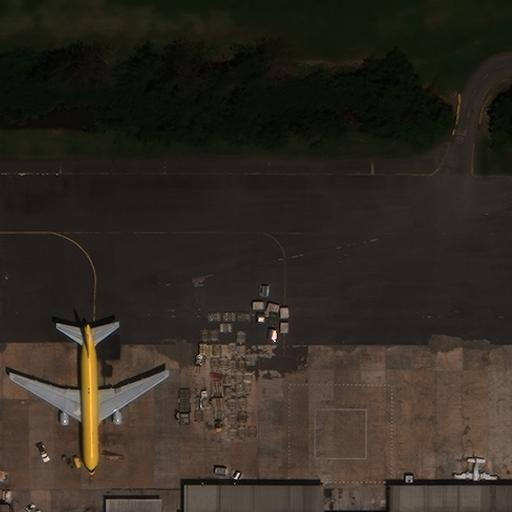Large Civil Transport: (12, 324, 168, 474)
Small Civil Transport: (454, 457, 498, 488)
